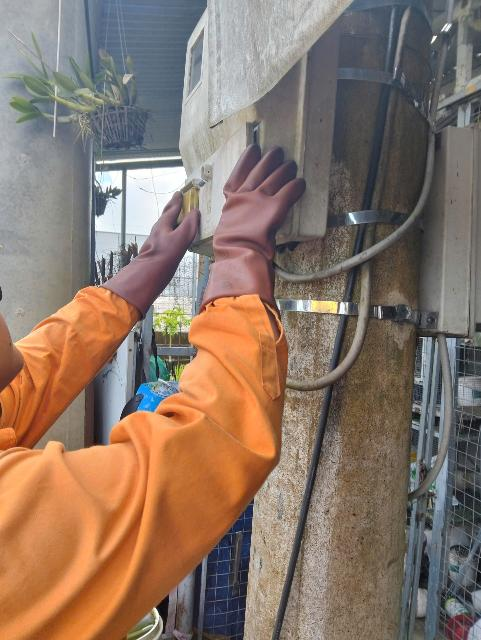gloves: (204, 139, 296, 331), (92, 181, 205, 328)
